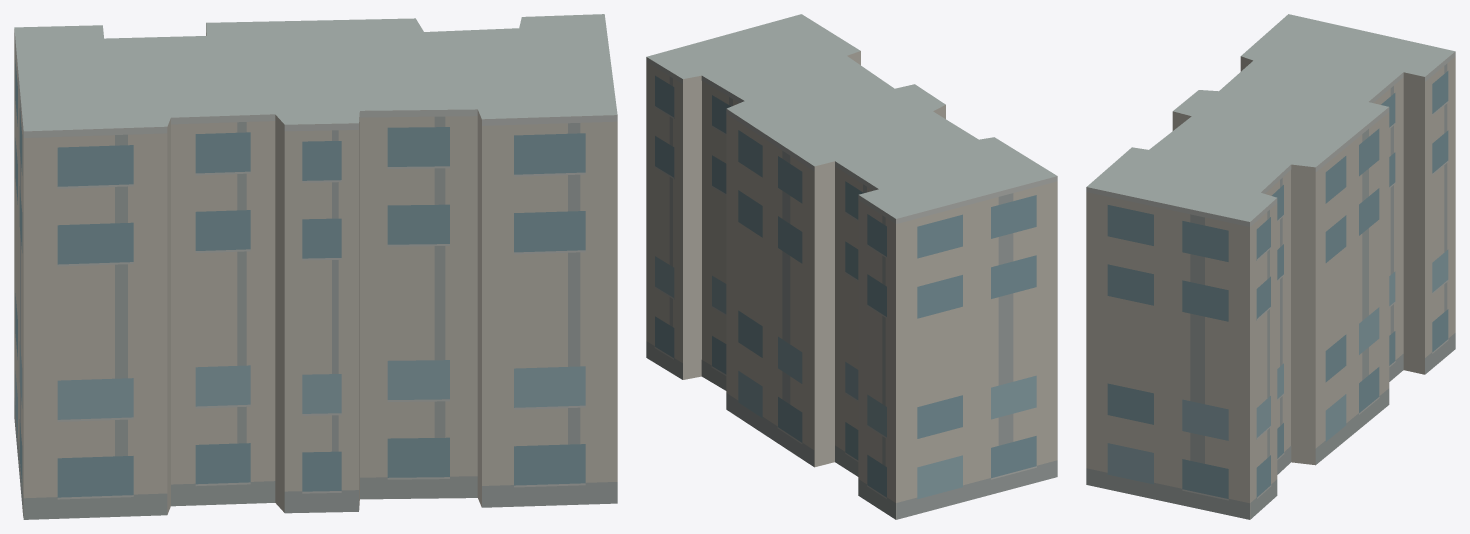
Rendered from survey-upis-32886656.glb.
3 renders of one model, left to right at view 1: azimuth 30°, elevation 25°; view 2: azimuth 150°, elevation 25°; view 3: azimuth 270°, elevation 25°, orthographic. The views are drawn at different scales.
Visible parts, largest first — view 1: survey-upis-32886656.tmp; view 2: survey-upis-32886656.tmp; view 3: survey-upis-32886656.tmp.
Boxes of the visible parts, x1,y1,x2,y2 form: survey-upis-32886656.tmp: (14, 14, 617, 519); survey-upis-32886656.tmp: (646, 14, 1057, 519); survey-upis-32886656.tmp: (1086, 14, 1455, 519).
Size of the model in its own units: 21.28 by 14.2 by 15.95.
